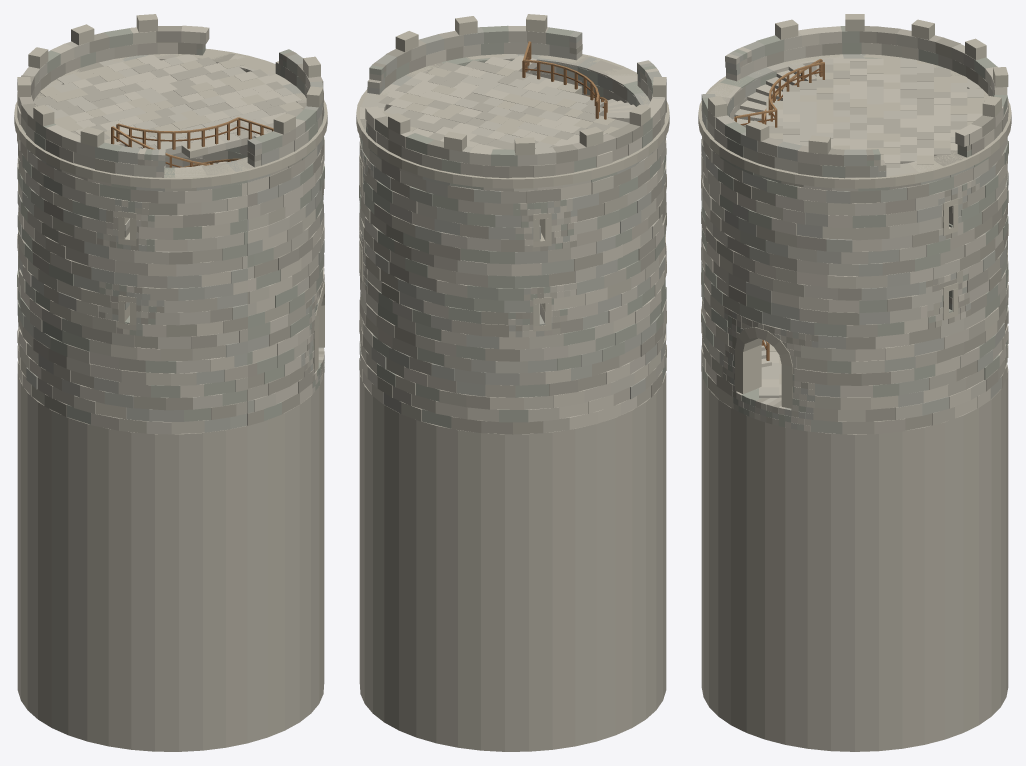
The model's file is Tower_V4_3.glb.
3 views of the same model, side by side, from view 1: azimuth 30°, elevation 25°; view 2: azimuth 150°, elevation 25°; view 3: azimuth 270°, elevation 25° (orthographic).
Visible parts, largest first — view 1: Tower_V4_3; view 2: Tower_V4_3; view 3: Tower_V4_3.
Part boxes in pixels (box(x1,y1,x2,y2)): Tower_V4_3: box(14, 14, 327, 751); Tower_V4_3: box(356, 14, 669, 751); Tower_V4_3: box(698, 14, 1011, 751).
Bounding box in the file's own units: 16.84 × 36.07 × 16.84.
